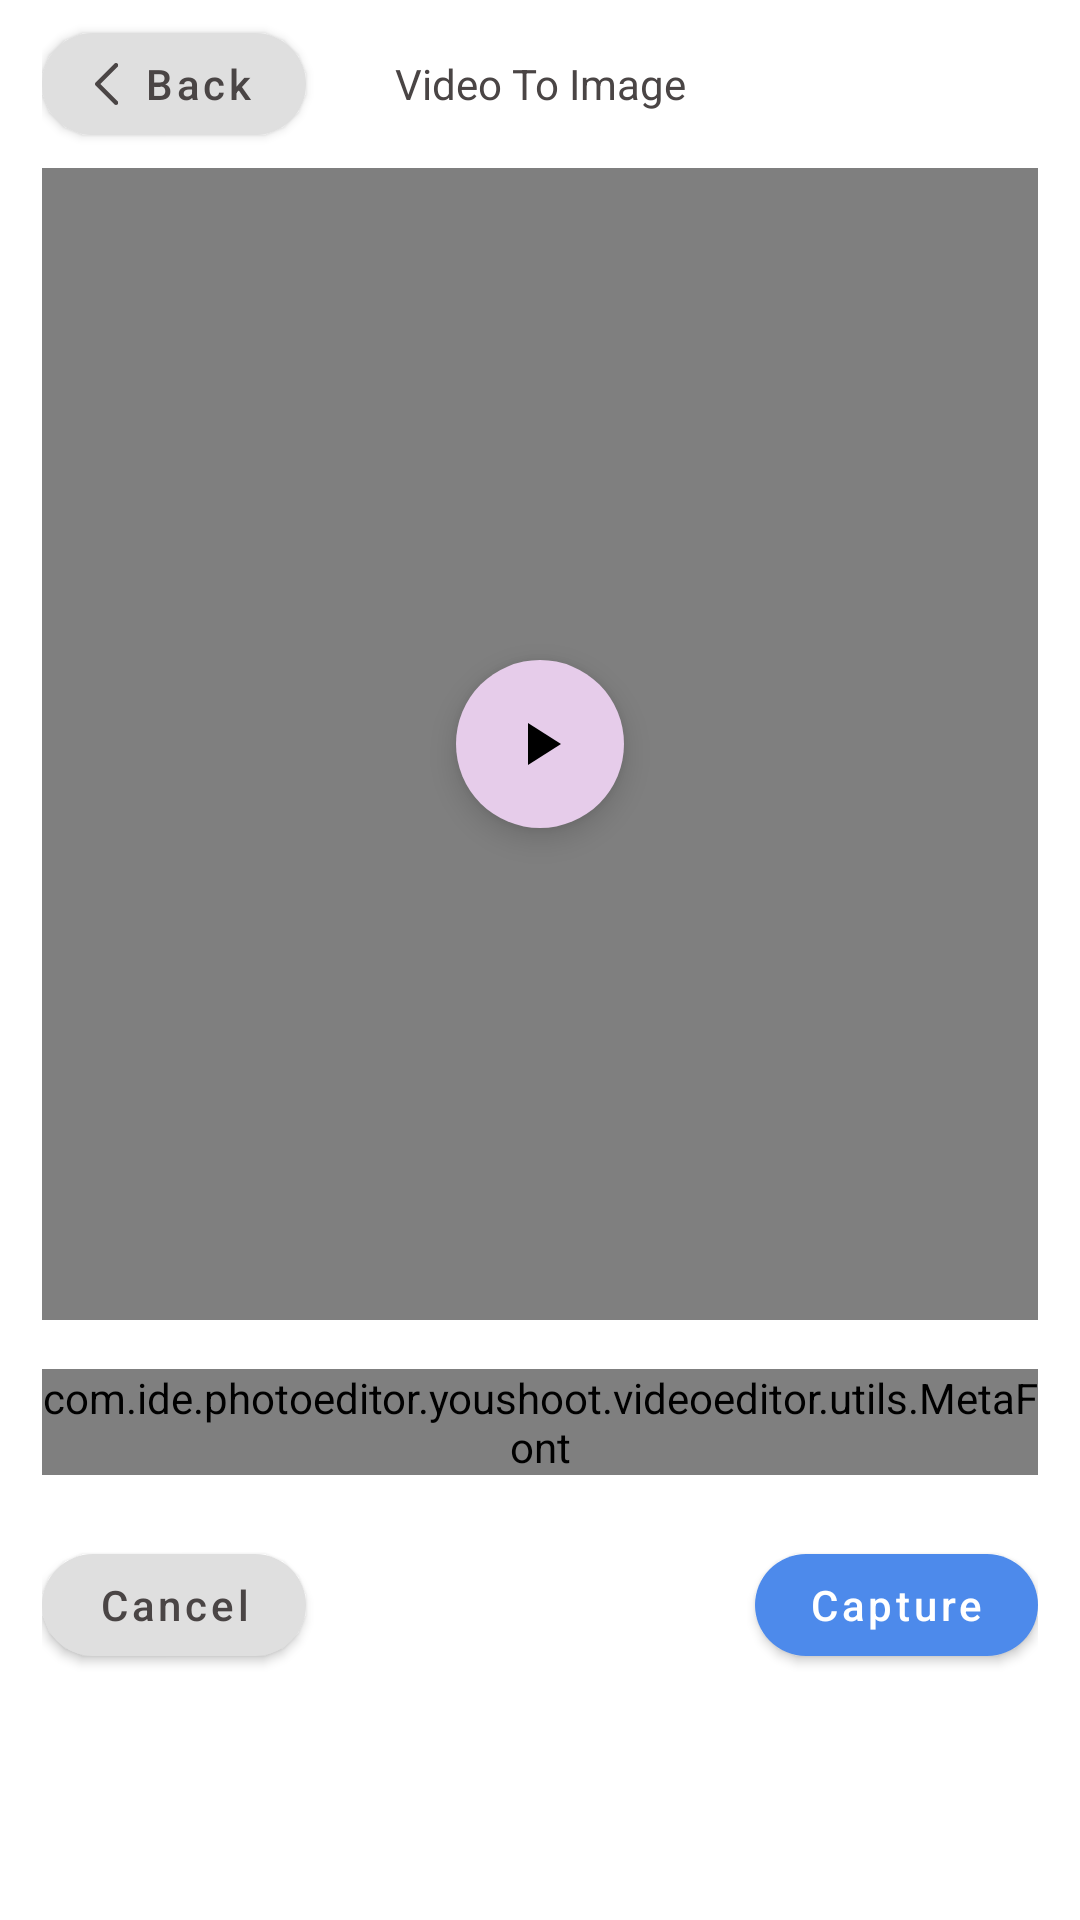

Icon bounding boxes for this 1080px×1920px phone screenshot, format (x1, y1, x2, y2):
play arrow: (456, 660, 624, 828)
